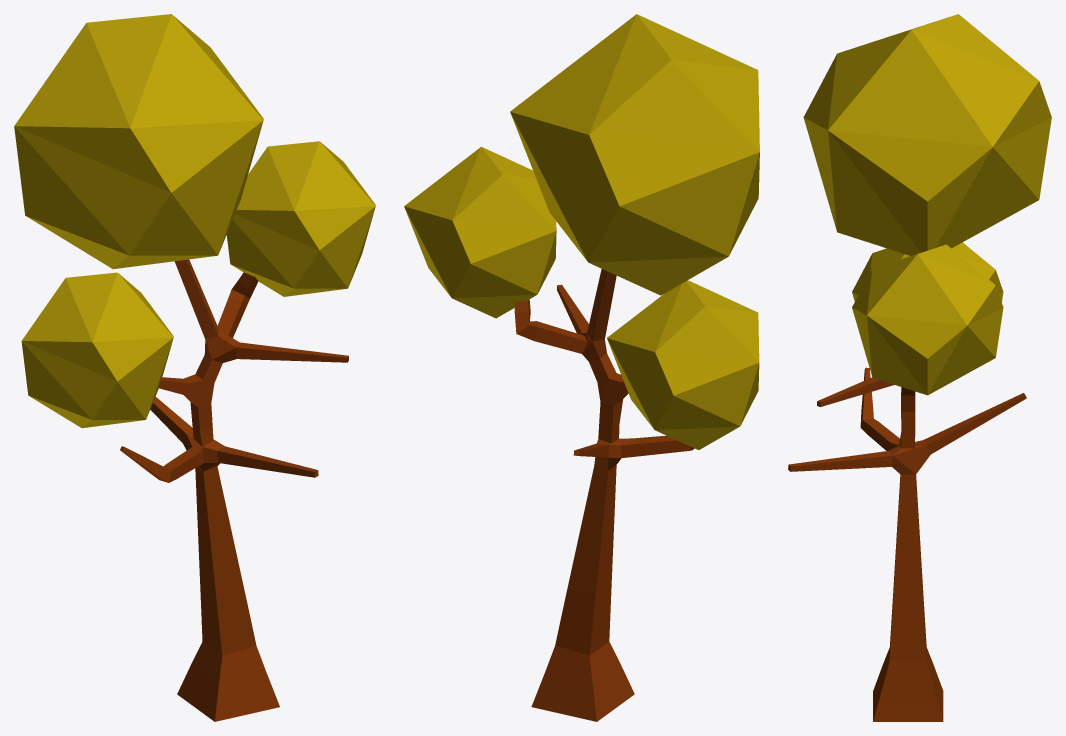
File: sharUpYellow.fbx
3 views of the same model, side by side, from view 1: azimuth 30°, elevation 25°; view 2: azimuth 150°, elevation 25°; view 3: azimuth 270°, elevation 25° (orthographic). The views are drawn at different scales.
Visible parts, largest first — view 1: Plane; view 2: Plane; view 3: Plane.
Boxes of the visible parts, x1,y1,x2,y2 form: Plane: (14,14,375,721); Plane: (404,14,759,721); Plane: (788,14,1051,721).
Bounding box in the file's own units: 4.59 × 8.7 × 3.19.
